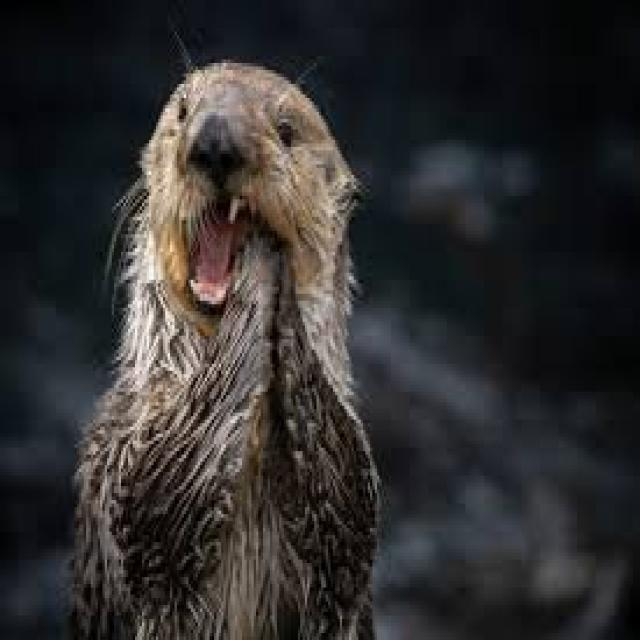Otter: (77, 45, 383, 636)
